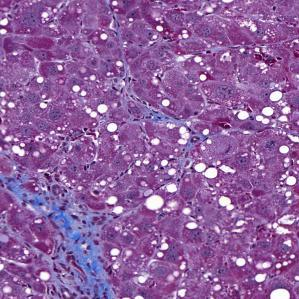fibrosis: (14, 169, 110, 277)
